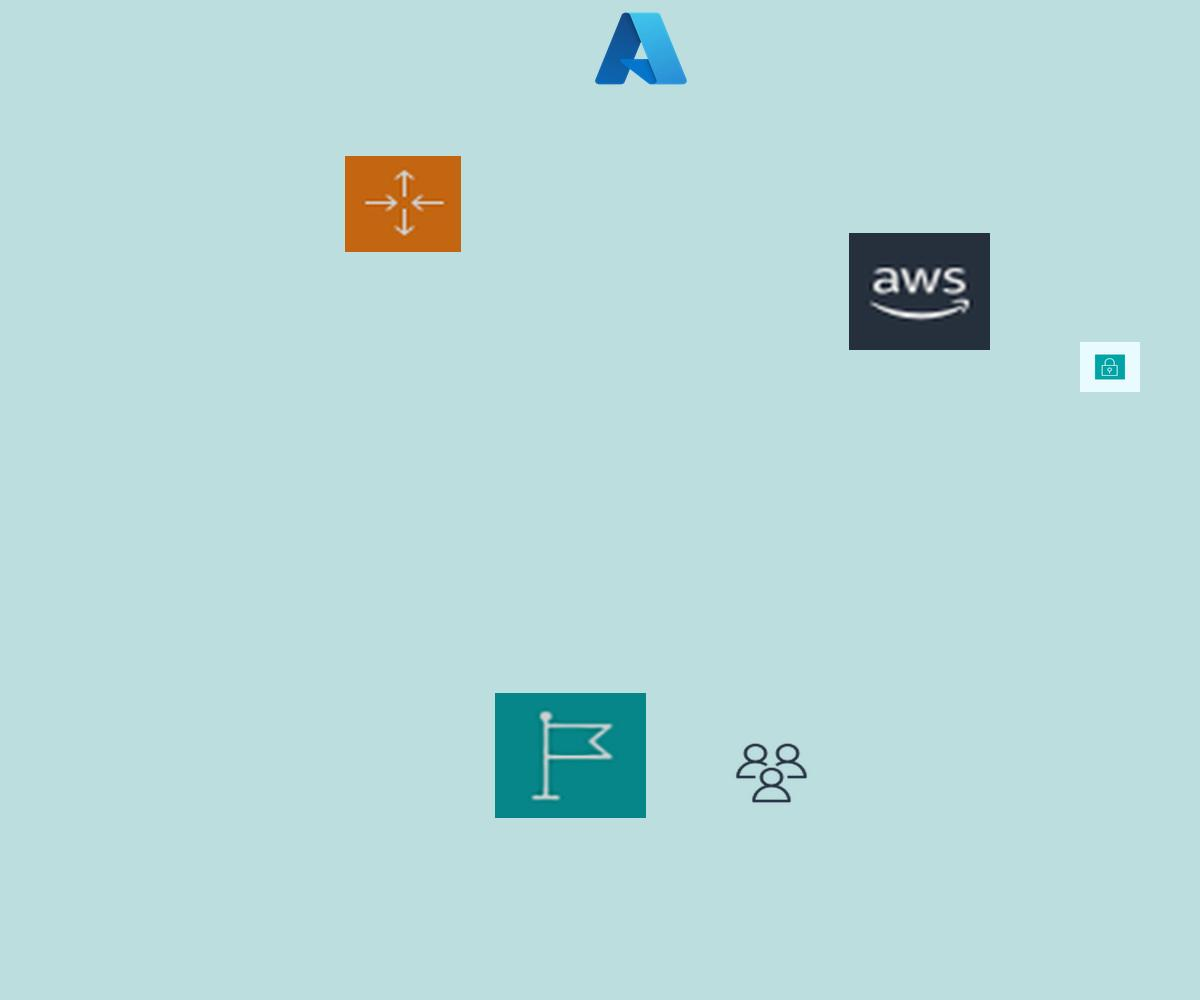AWS-Cloud-logo: (849, 233, 990, 350)
AWS-Private-subnet: (1080, 342, 1140, 392)
AWS-Region: (495, 693, 646, 818)
AWS-Res_Users: (733, 741, 810, 805)
AWS-Scaling-group: (345, 156, 461, 252)
Azure_services: (591, 7, 691, 90)
